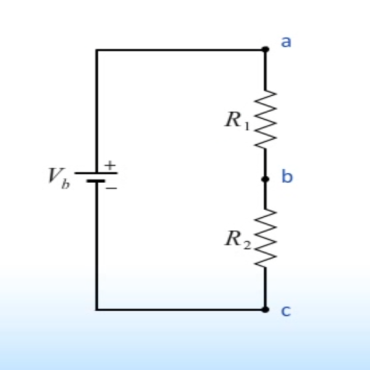Resistor: (225, 87, 279, 154), (223, 207, 278, 272)
Voltage Source: (47, 159, 122, 196)
